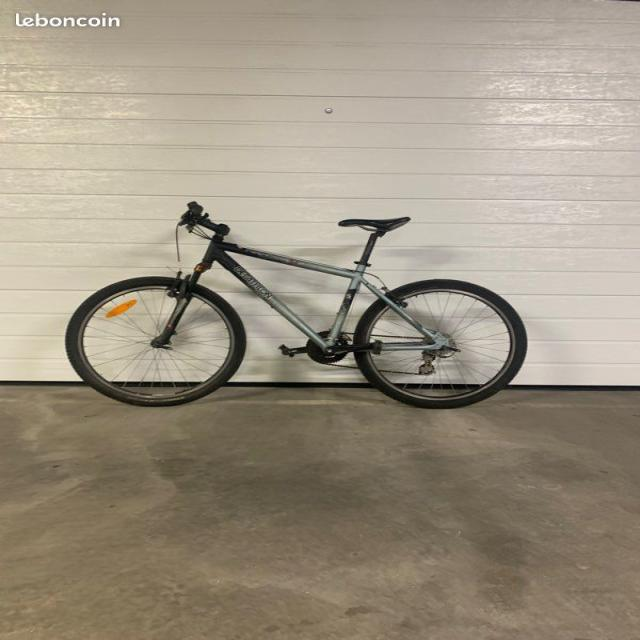Bike: (65, 202, 526, 408)
